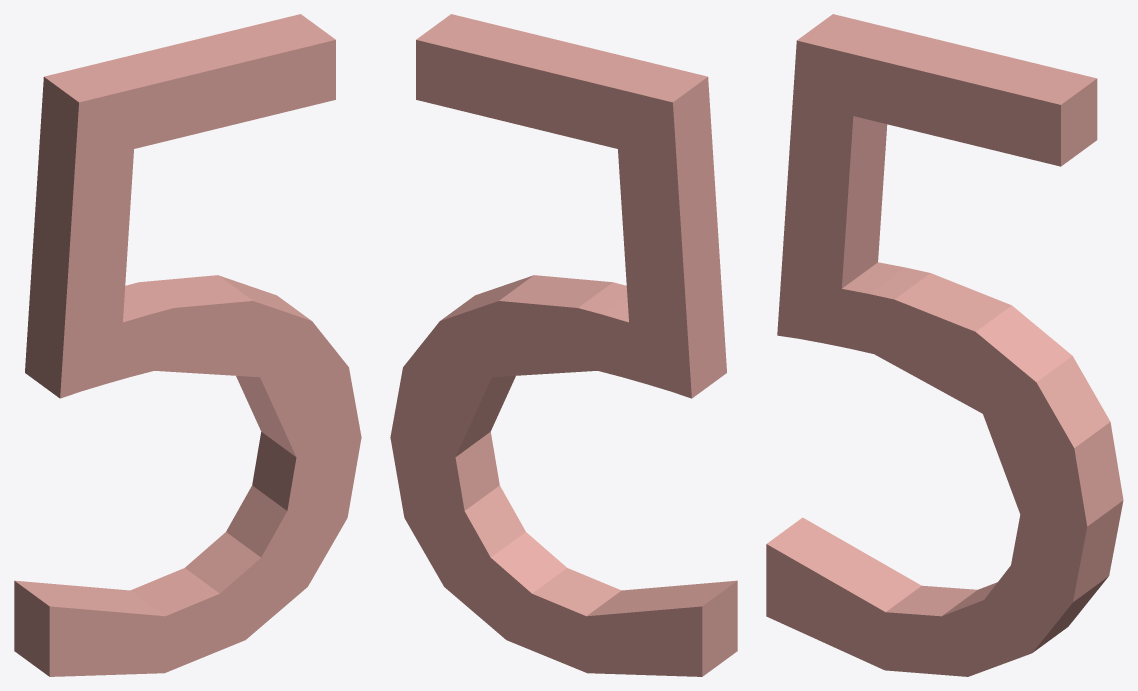
Rendered from tsifa4.fbx.
3 renders of one model, left to right at view 1: azimuth 30°, elevation 25°; view 2: azimuth 150°, elevation 25°; view 3: azimuth 330°, elevation 25°, orthographic. The views are drawn at different scales.
Visible parts, largest first — view 1: Extrude_7; view 2: Extrude_7; view 3: Extrude_7.
Part boxes in pixels (x1,y1,x2,y2): Extrude_7: [14, 14, 361, 676]; Extrude_7: [390, 14, 737, 676]; Extrude_7: [766, 14, 1123, 676].
Size of the model in its own units: 5.11 by 9.26 by 1.
